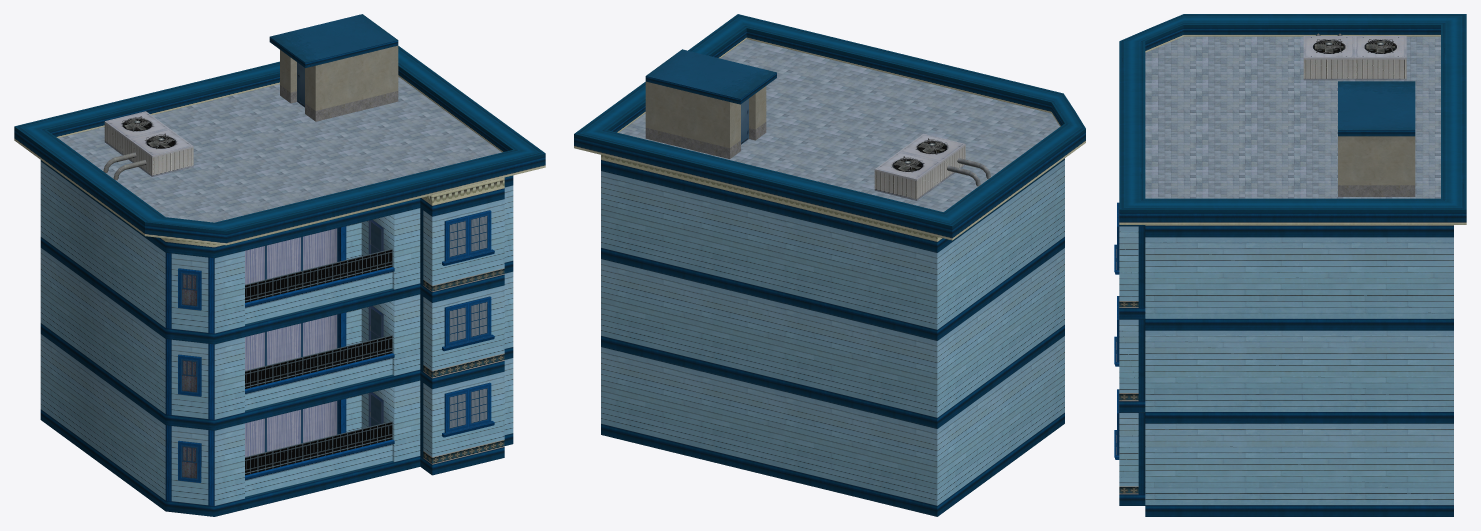
Rendered from HouseC.obj.
The picture shows the model from 3 angles, left to right: view 1: azimuth 30°, elevation 25°; view 2: azimuth 150°, elevation 25°; view 3: azimuth 270°, elevation 25°; orthographic projection. The views are drawn at different scales.
Parts seen in each view (by area): view 1: HouseC; view 2: HouseC; view 3: HouseC.
Boxes of the visible parts, box(x1,y1,x2,y2) form: HouseC: box(14, 14, 545, 516); HouseC: box(574, 14, 1085, 516); HouseC: box(1114, 14, 1466, 516).
Bounding box in the file's own units: 19.8 × 17.6 × 15.07.
